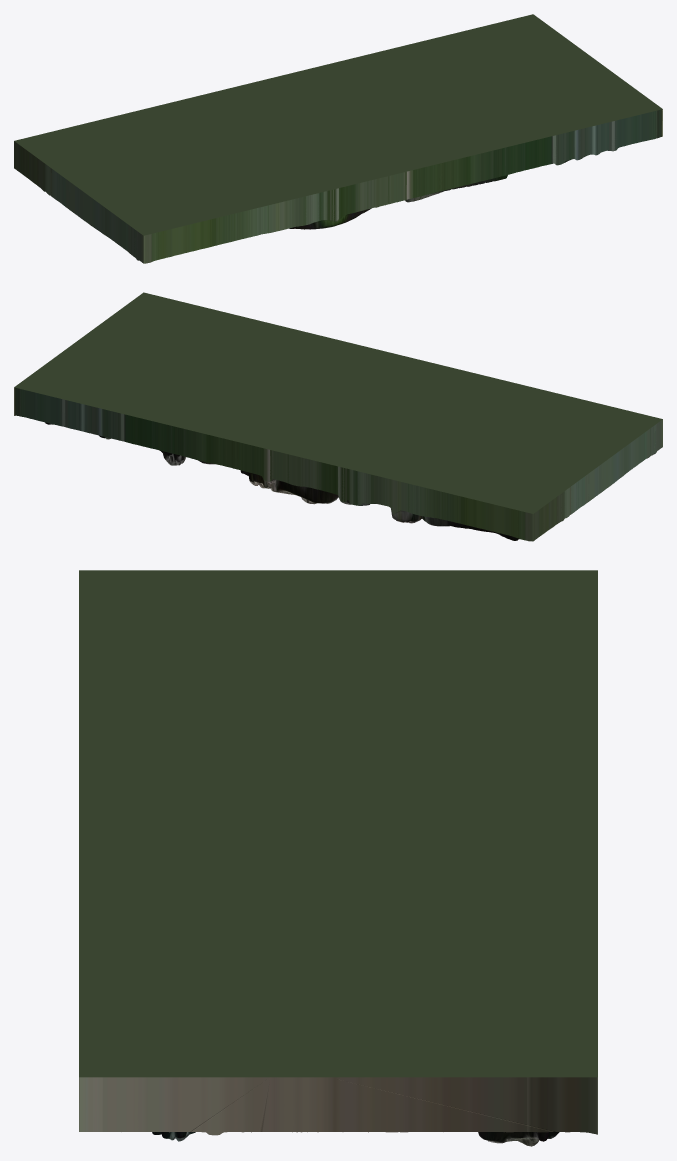
The model's file is guernica.glb.
The picture shows the model from 3 angles, top to bottom: view 1: azimuth 30°, elevation 25°; view 2: azimuth 150°, elevation 25°; view 3: azimuth 270°, elevation 25°; orthographic projection. The views are drawn at different scales.
Visible parts, largest first — view 1: Guernica - Pablo Picasso.stl; view 2: Guernica - Pablo Picasso.stl; view 3: Guernica - Pablo Picasso.stl.
Boxes of the visible parts, x1,y1,x2,y2 form: Guernica - Pablo Picasso.stl: [14, 14, 662, 263]; Guernica - Pablo Picasso.stl: [14, 292, 662, 541]; Guernica - Pablo Picasso.stl: [79, 570, 597, 1146].
Bounding box in the file's own units: 100 × 11 × 43.25.
1 material, 1 textured.
